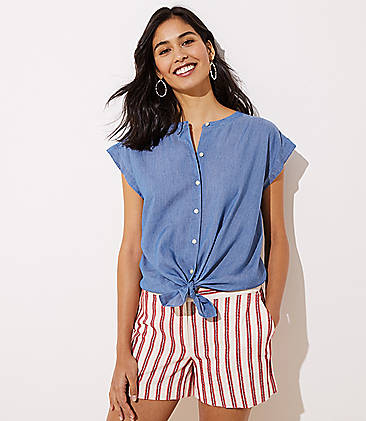C_shorts: (109, 286, 277, 409)
S_short blouse: (105, 110, 299, 315)
